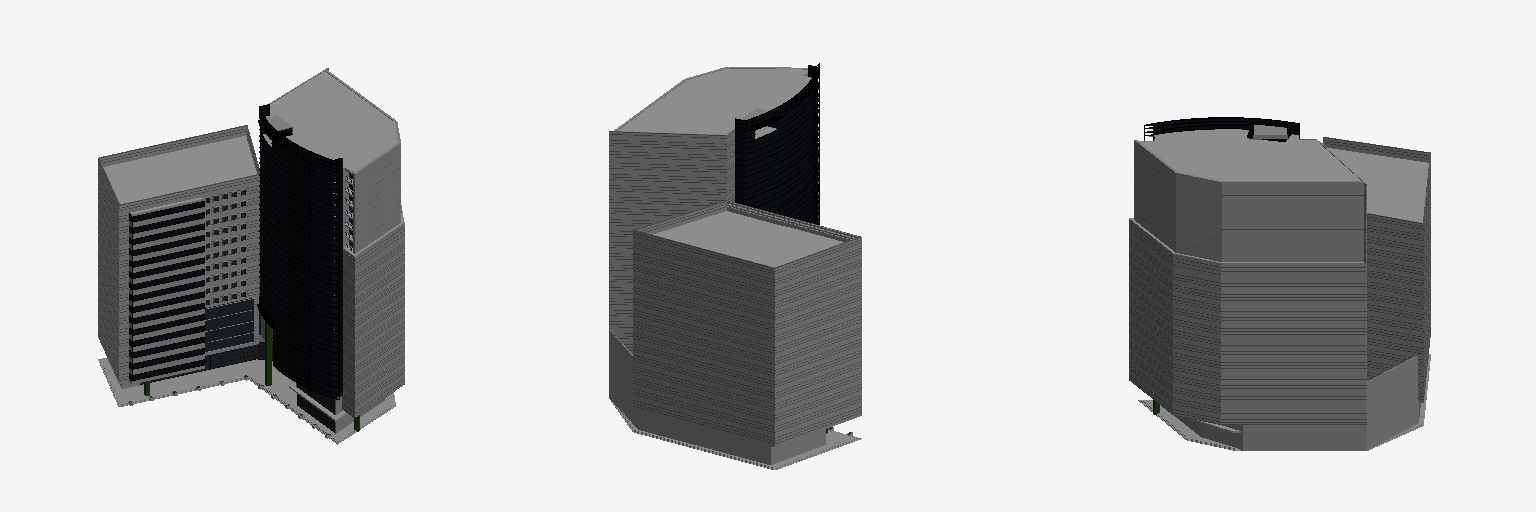
Rendered from businessBlock.obj.
The picture shows the model from 3 angles: view 1: azimuth 30°, elevation 25°; view 2: azimuth 150°, elevation 25°; view 3: azimuth 270°, elevation 25°; orthographic projection.
Parts seen in each view (by area): view 1: Rectangl29, Line206, Line72, Line127, Line15, Plane17, Line202, Line99; view 2: Rectangl29, Line127, Line72, Line99, Line206, Line15, Line202; view 3: Rectangl29, Line127, Line72, Line99, Line206, Line202, Line15.
Boxes of the visible parts, x1=… form: Rectangl29: x1=98, y1=68, x2=404, y2=433; Line206: x1=130, y1=105, x2=342, y2=396; Line72: x1=103, y1=71, x2=402, y2=421; Line127: x1=98, y1=69, x2=404, y2=417; Line15: x1=129, y1=104, x2=352, y2=430; Plane17: x1=140, y1=173, x2=352, y2=432; Line202: x1=100, y1=358, x2=393, y2=441; Line99: x1=98, y1=68, x2=404, y2=417; Rectangl29: x1=609, y1=67, x2=861, y2=464; Line127: x1=609, y1=130, x2=861, y2=443; Line72: x1=618, y1=68, x2=843, y2=267; Line99: x1=609, y1=130, x2=861, y2=443; Line206: x1=735, y1=66, x2=817, y2=224; Line15: x1=735, y1=63, x2=819, y2=224; Line202: x1=620, y1=410, x2=857, y2=467; Rectangl29: x1=1129, y1=125, x2=1430, y2=450; Line127: x1=1129, y1=138, x2=1430, y2=423; Line72: x1=1131, y1=129, x2=1428, y2=432; Line99: x1=1129, y1=137, x2=1430, y2=424; Line206: x1=1153, y1=118, x2=1298, y2=140; Line202: x1=1142, y1=358, x2=1428, y2=448; Line15: x1=1144, y1=117, x2=1299, y2=140.
Bounding box in the file's own units: 187 × 215 × 212.